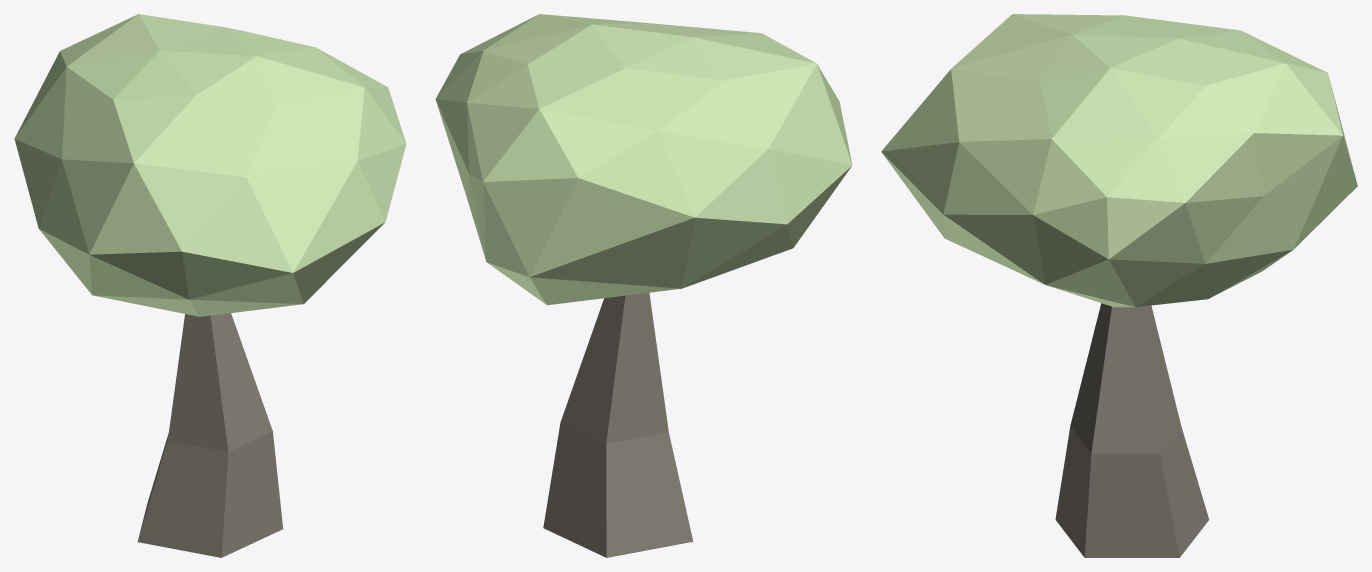
Rendered from Low_Poly_Tree_001_Light2.fbx.
The picture shows the model from 3 angles, left to right: view 1: azimuth 30°, elevation 25°; view 2: azimuth 150°, elevation 25°; view 3: azimuth 270°, elevation 25°; orthographic projection. The views are drawn at different scales.
Visible parts, largest first — view 1: Low_Poly_Tree_001; view 2: Low_Poly_Tree_001; view 3: Low_Poly_Tree_001.
Part boxes in pixels (box(x1,y1,x2,y2)): Low_Poly_Tree_001: box(14, 14, 406, 557); Low_Poly_Tree_001: box(435, 14, 852, 557); Low_Poly_Tree_001: box(881, 14, 1357, 557).
Size of the model in its own units: 517 by 659 by 589.
